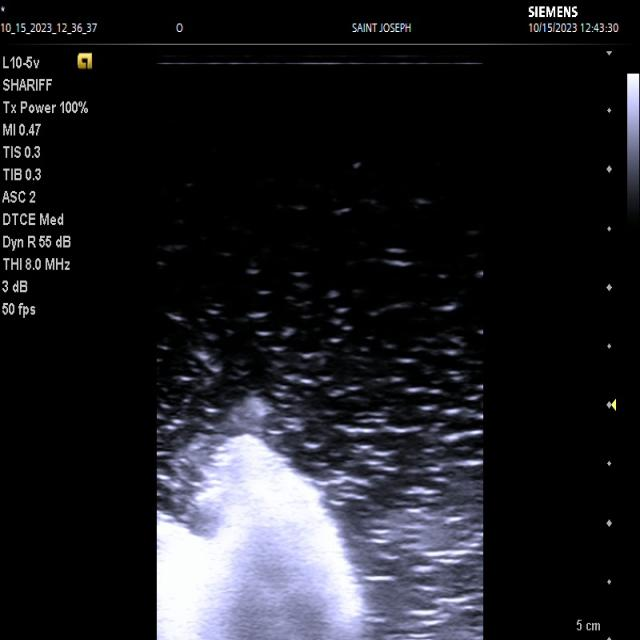tissue: (158, 433, 365, 640)
